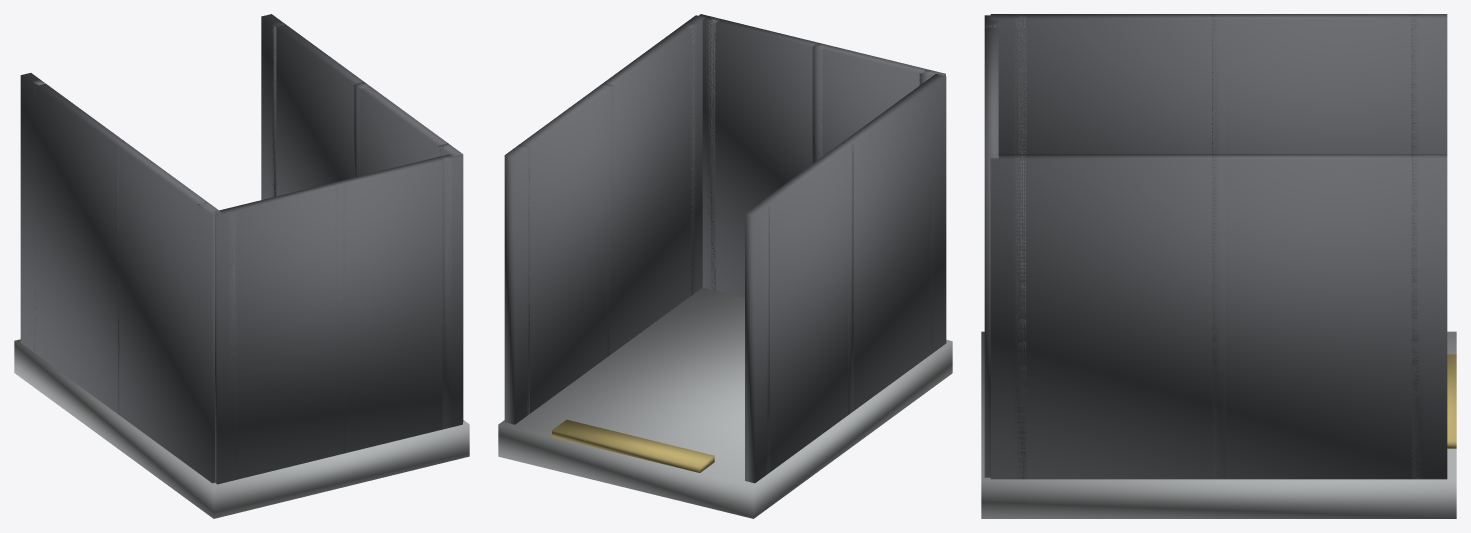
The model's file is floor_w100_d135_three.glb.
3 renders of one model, left to right at view 1: azimuth 30°, elevation 25°; view 2: azimuth 150°, elevation 25°; view 3: azimuth 270°, elevation 25°, orthographic. The views are drawn at different scales.
Parts seen in each view (by area): view 1: world; view 2: world; view 3: world.
Part boxes in pixels (box(x1,y1,x2,y2)): world: box(14, 14, 469, 518); world: box(498, 14, 952, 518); world: box(981, 14, 1456, 518).
Size of the model in its own units: 1 by 1.12 by 1.35.
